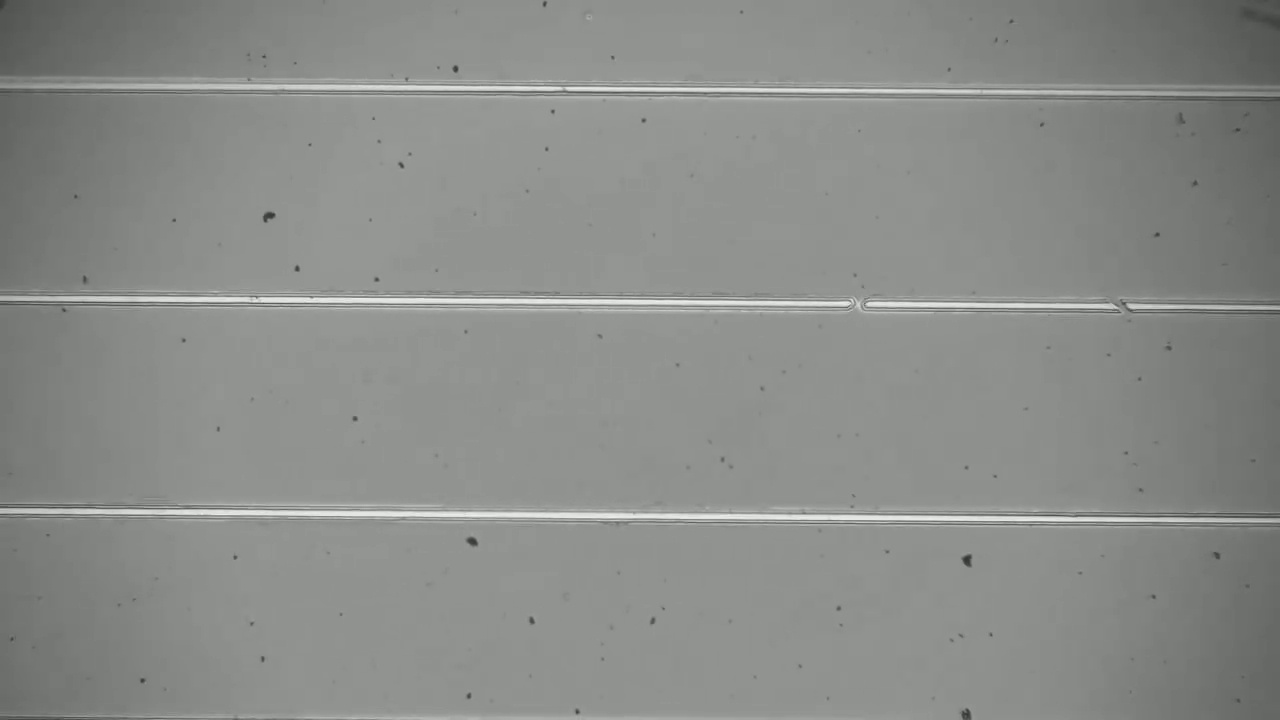open: (1101, 287, 1140, 328), (834, 286, 874, 323)
